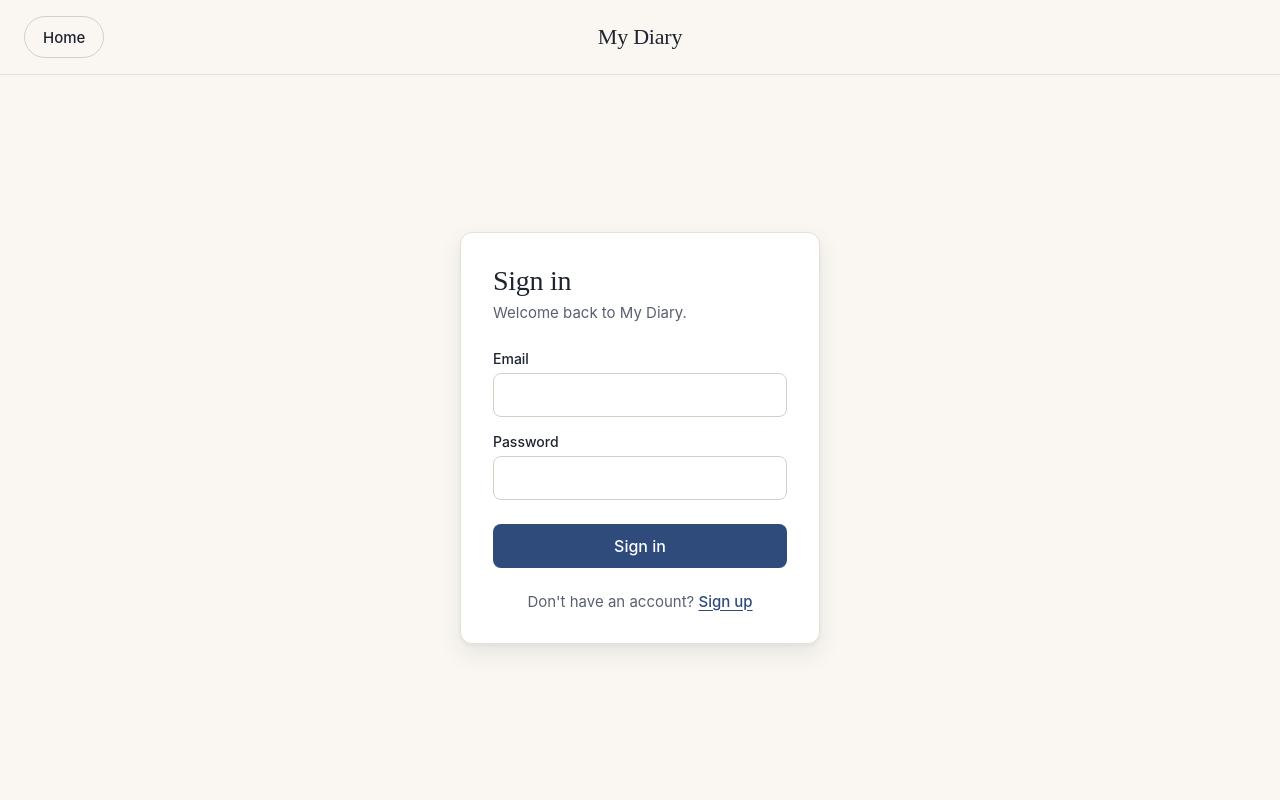
it: SignIn › shows an error and stays on the page when the credentials are wrong
Type "amin@example.com" into the field labelled "Email" at (640, 394), box top-left (493, 372), bottom-right (787, 416)
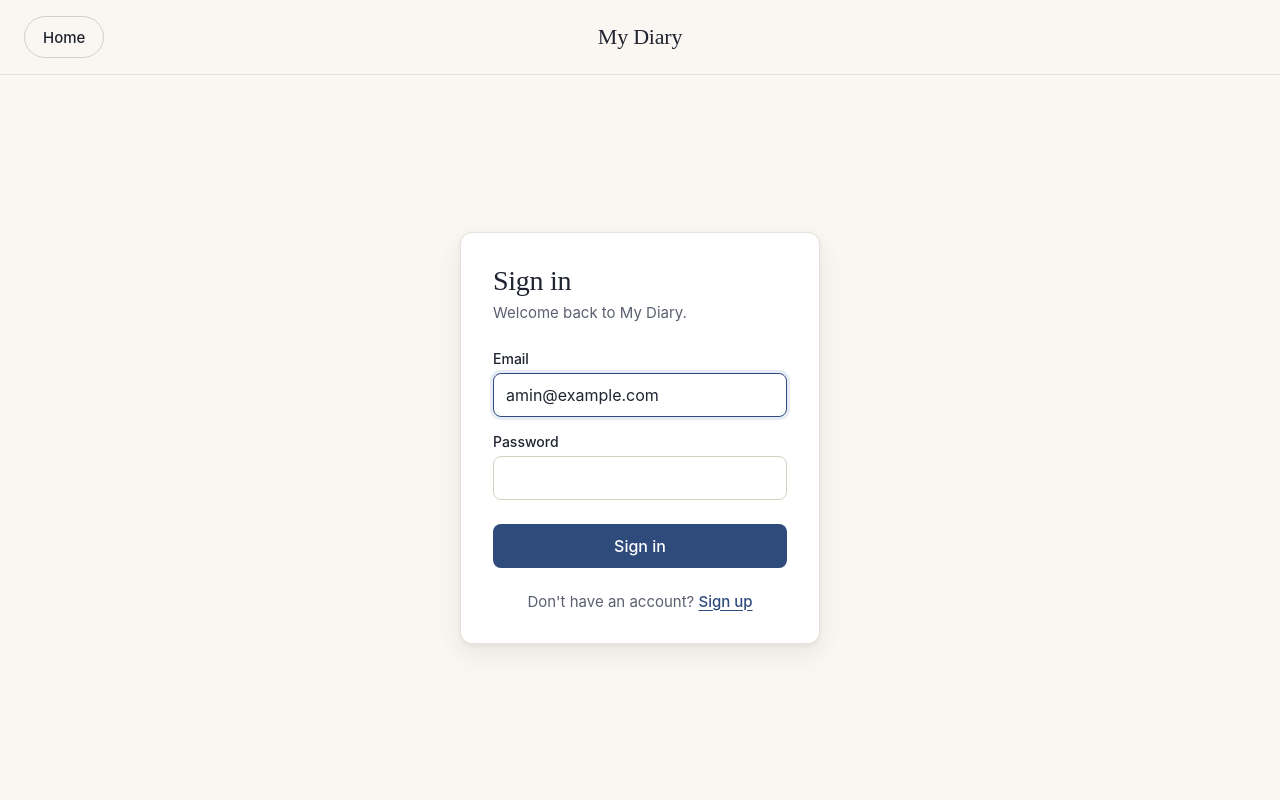
Type "secret123" into the password field labelled "Password" at (640, 478), box top-left (493, 456), bottom-right (787, 500)
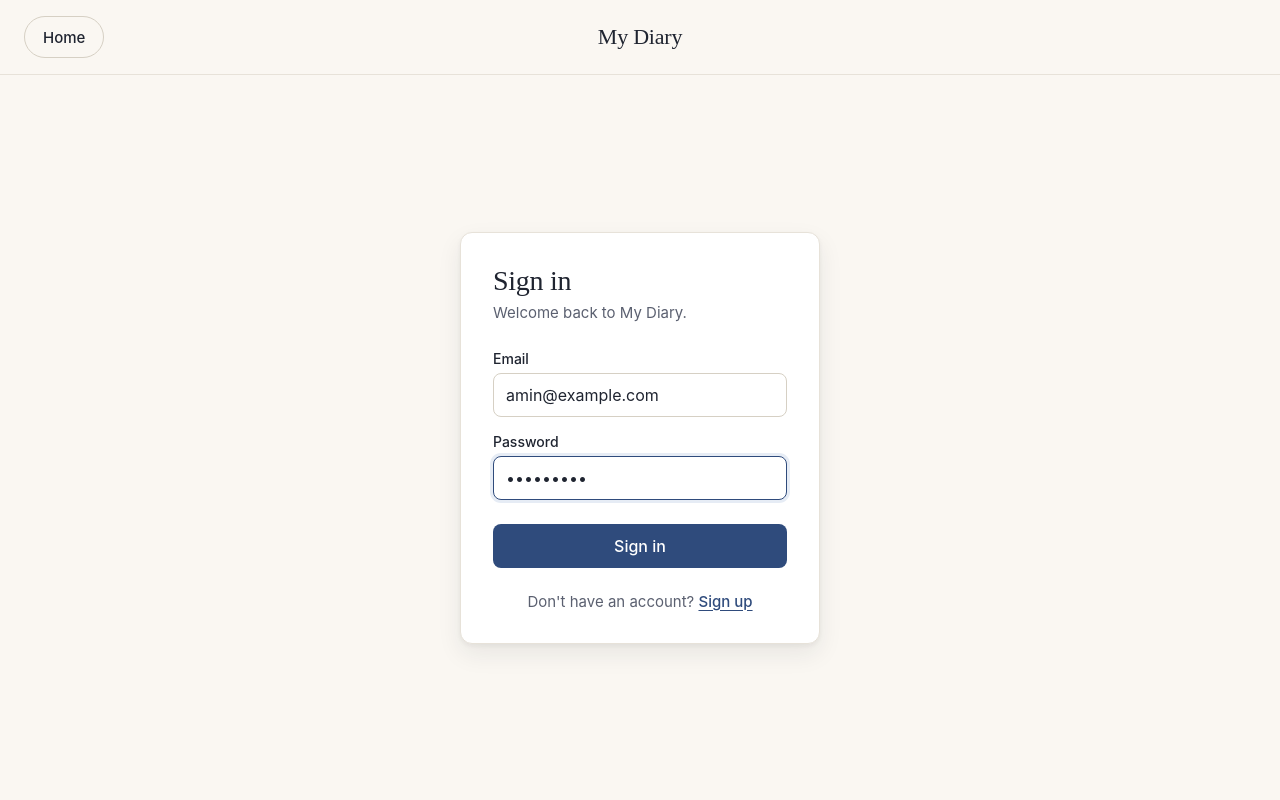
Click the button "Sign in" at (640, 546), box top-left (493, 524), bottom-right (787, 568)
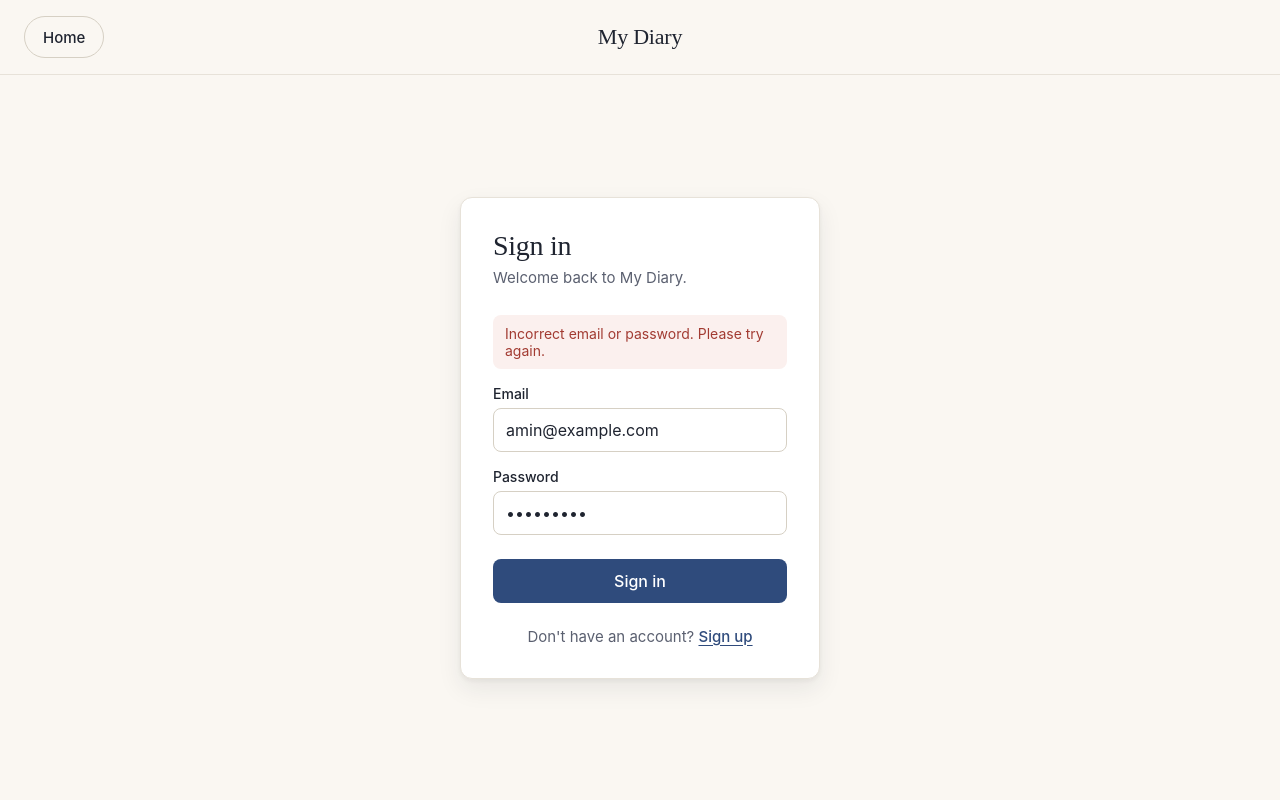
Check: the button "Sign in" is enabled, box top-left (493, 558), bottom-right (787, 602)
Check: the message shows "Incorrect email or password", box top-left (505, 324), bottom-right (764, 358)
